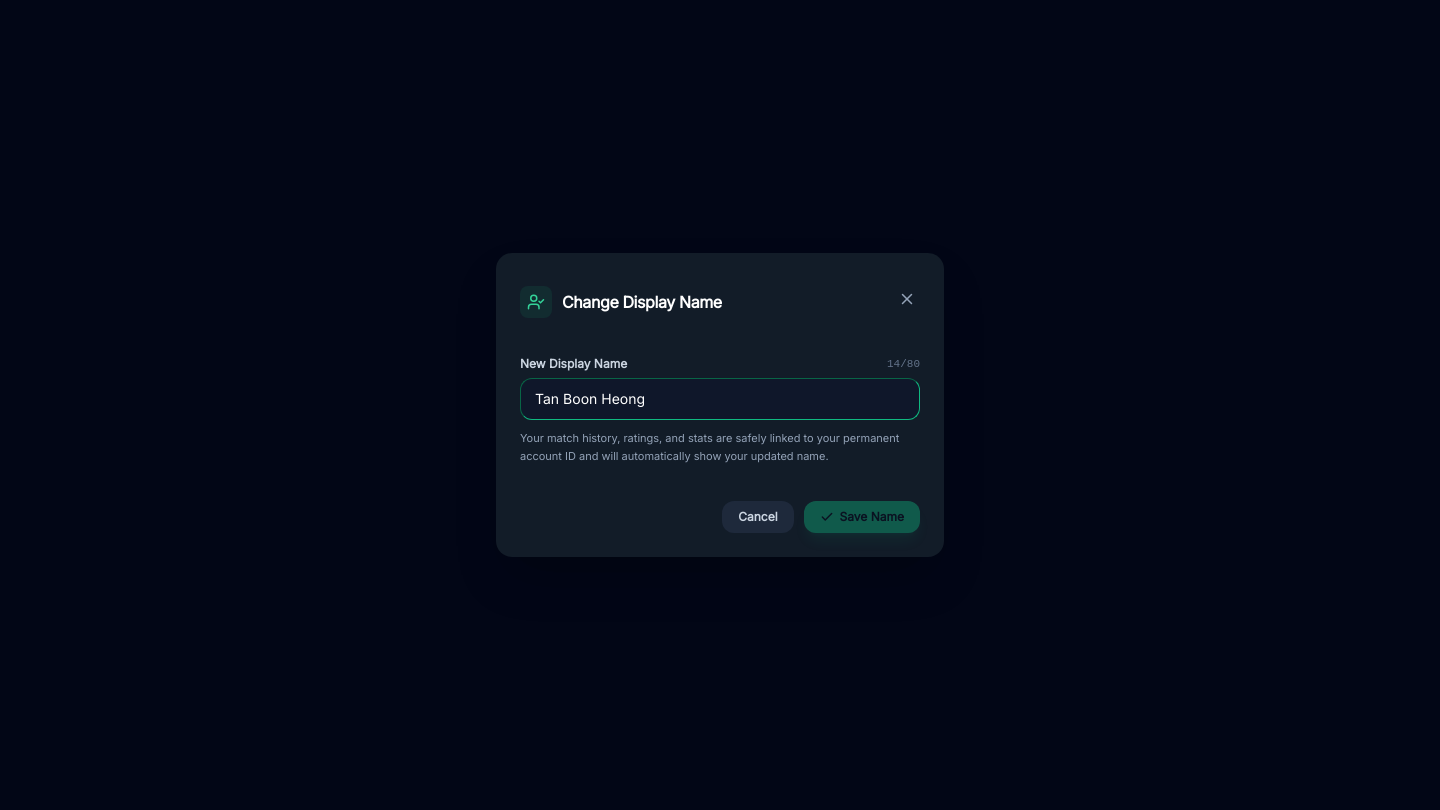
Phase — Update Player Display Name UI Suite › EditPlayerNameModal › enables save button when a new valid name is typed
The width and height of the screenshot is (1440, 810).
Replace the text in the field with test id "player-display-name-input" with "Tan Boon Heong (Pro)" at (720, 399), box [520, 378, 920, 420]
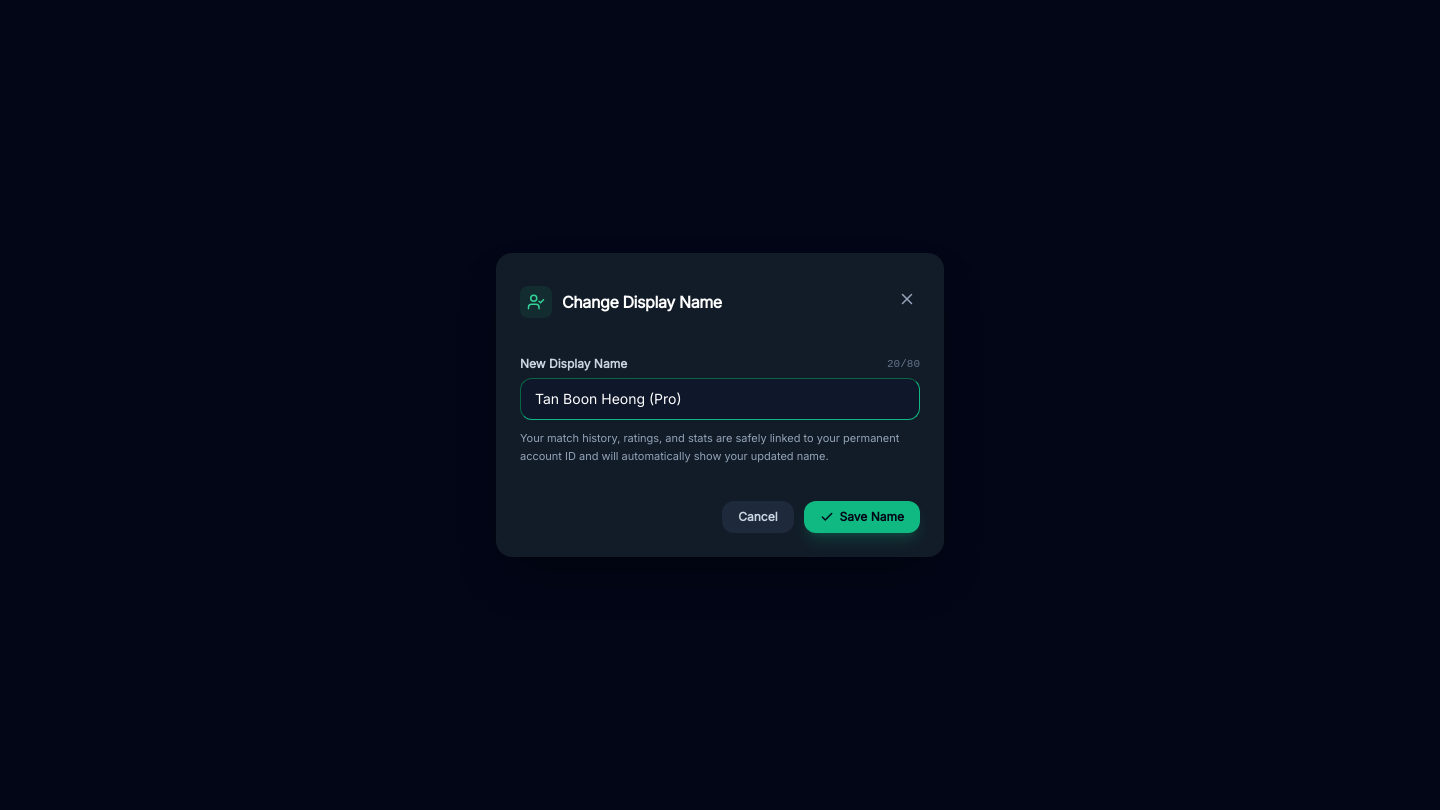
Expected: the button with test id "save-display-name-btn" is enabled, [804, 501, 920, 533]
